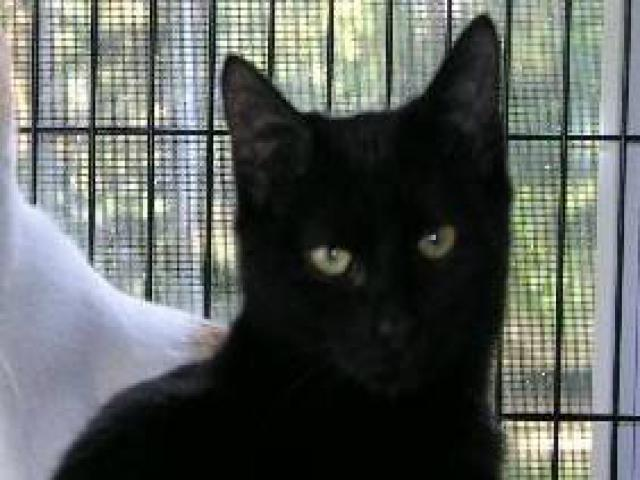cat: (44, 20, 523, 472)
